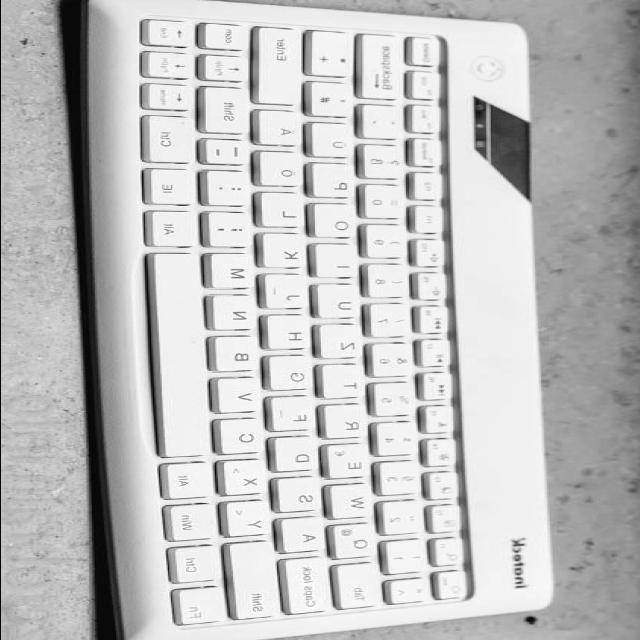0: (364, 185, 408, 221)
1: (387, 541, 431, 577)
2: (384, 502, 426, 538)
3: (381, 462, 425, 498)
4: (378, 423, 422, 457)
5: (375, 383, 419, 418)
6: (372, 344, 416, 380)
7: (370, 304, 414, 339)
8: (369, 264, 413, 300)
9: (367, 225, 411, 261)
a: (282, 518, 329, 556)
accent: (364, 106, 406, 141)
ae: (258, 111, 305, 148)
alt-left: (166, 463, 219, 503)
altgr-right: (146, 211, 202, 249)
b: (216, 336, 264, 376)
c: (220, 419, 268, 458)
caret: (392, 581, 433, 607)
comma: (209, 213, 255, 251)
d: (276, 438, 322, 475)
del: (362, 34, 408, 102)
e: (329, 445, 375, 481)
enter: (258, 28, 306, 108)
f: (272, 398, 319, 435)
g: (270, 357, 316, 394)
h: (267, 316, 314, 353)
hash: (310, 82, 358, 119)
i: (317, 245, 361, 281)
j: (264, 275, 312, 312)
k: (264, 235, 310, 271)
keyboard: (100, 0, 490, 640)
l: (261, 193, 308, 230)
m: (211, 254, 259, 292)
minus: (205, 139, 253, 167)
n: (213, 296, 260, 334)
o: (316, 205, 360, 241)
oe: (260, 153, 307, 189)
p: (314, 165, 360, 201)
plus: (311, 31, 358, 79)
point: (208, 170, 254, 208)
q: (334, 525, 381, 563)
r: (326, 406, 370, 442)
s: (278, 479, 325, 516)
shift-left: (232, 542, 285, 622)
shift-lock: (285, 559, 337, 618)
shift-right: (199, 86, 249, 136)
space: (147, 252, 212, 462)
ss: (362, 145, 408, 181)
strg-left: (169, 544, 222, 586)
strg-right: (149, 117, 199, 165)
t: (323, 366, 369, 401)
tab: (338, 564, 388, 612)
u: (317, 285, 363, 321)
ue: (312, 125, 358, 161)
v: (217, 378, 265, 416)
w: (331, 485, 378, 522)
x: (225, 461, 272, 499)
y: (228, 502, 275, 540)
z: (322, 326, 366, 362)
